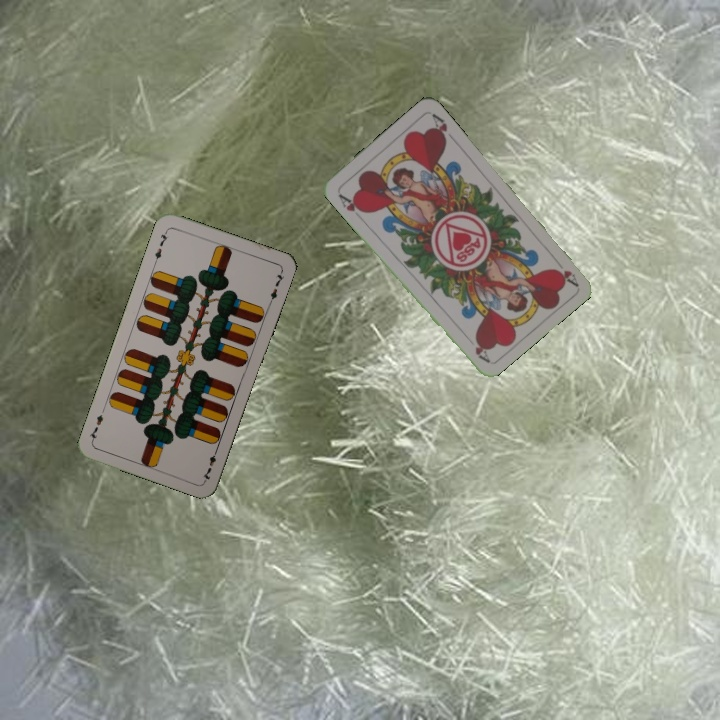E7: (198, 444, 221, 483), (150, 226, 171, 266)
HA: (549, 253, 580, 288), (334, 189, 368, 216)
